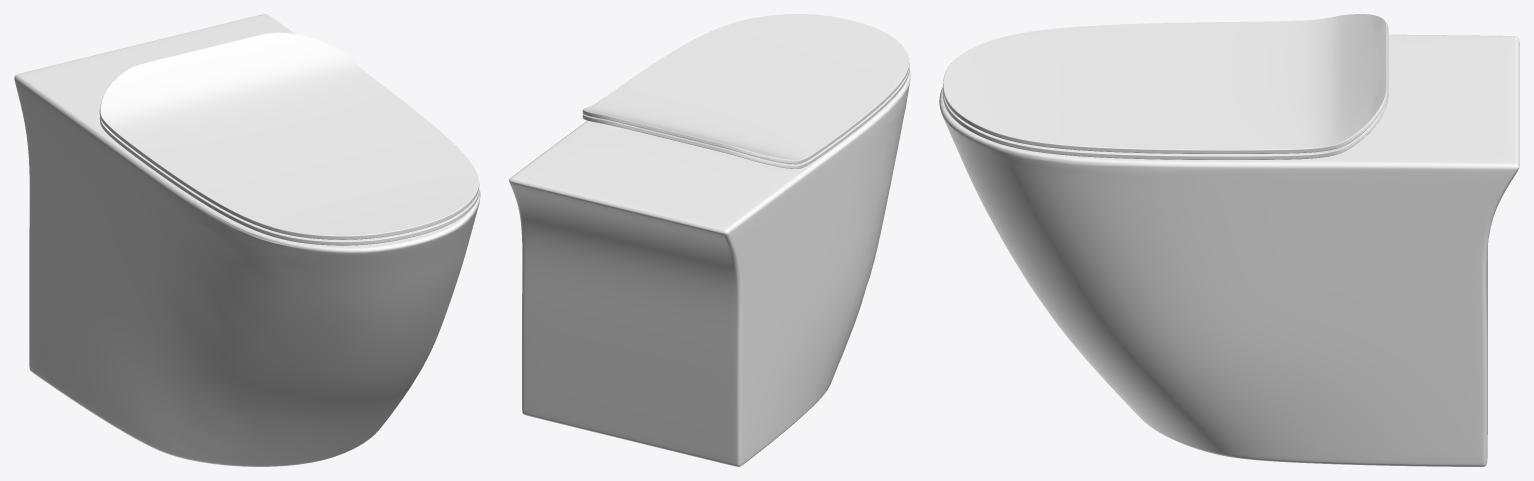
Rendered from Sanitary ware _001(White).gltf.
The picture shows the model from 3 angles, left to right: view 1: azimuth 30°, elevation 25°; view 2: azimuth 150°, elevation 25°; view 3: azimuth 270°, elevation 25°; orthographic projection. The views are drawn at different scales.
Visible parts, largest first — view 1: Sanitary ware _002; view 2: Sanitary ware _002; view 3: Sanitary ware _002.
Boxes of the visible parts, x1=… form: Sanitary ware _002: x1=14, y1=14, x2=480, y2=466; Sanitary ware _002: x1=509, y1=14, x2=910, y2=466; Sanitary ware _002: x1=939, y1=14, x2=1519, y2=466.
Size of the model in its own units: 0.2978 by 0.3639 by 0.5539.
Materials: 1 (1 with a texture image).
